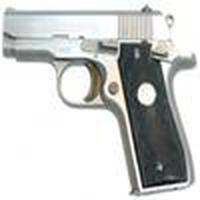gun: (3, 6, 197, 159)
